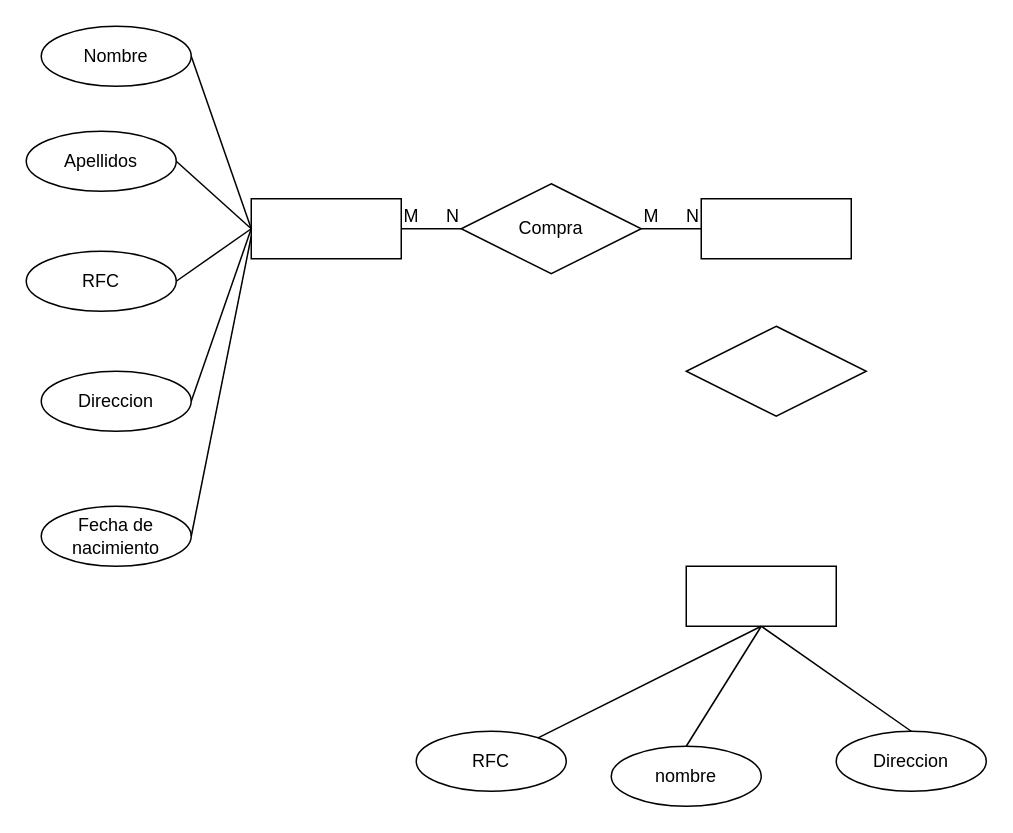
This 1013x833 diagram has some shape labels left out. The centre of each missing label's shape, as x and y in pixels:
Cliente: the point at 325,228
Producto: the point at 775,228
Provedor: the point at 760,595
Suministra: the point at 775,370
